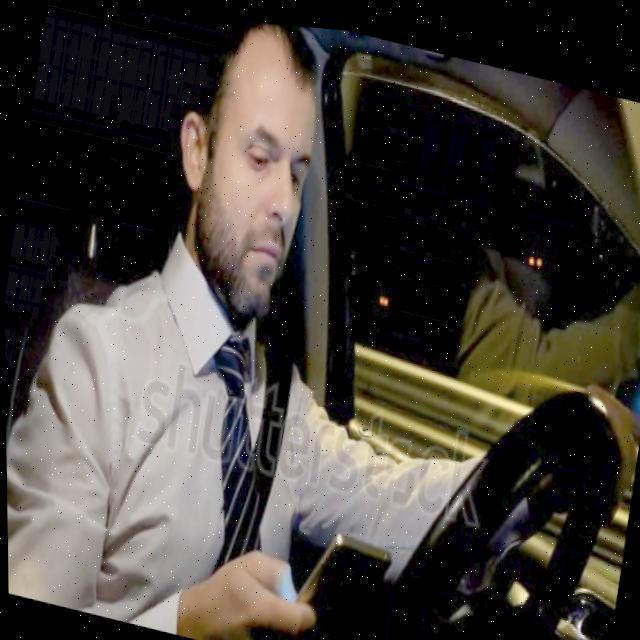PhoneCall: (282, 514, 394, 640)
